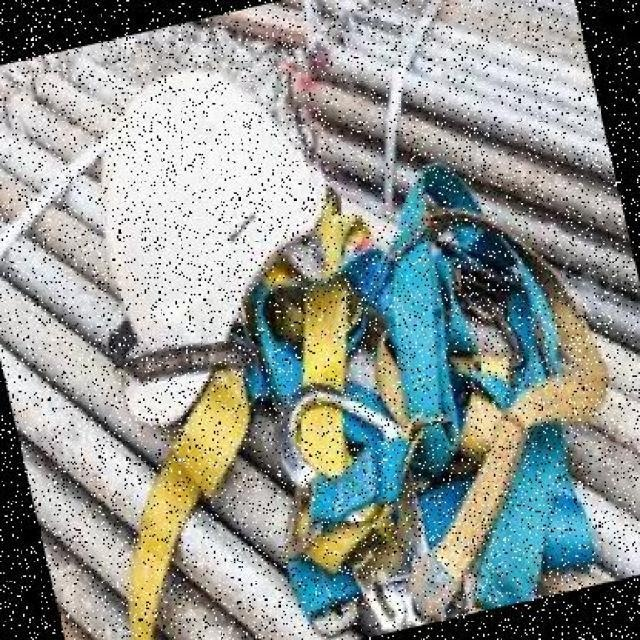Arnes_seguridad: (4, 0, 640, 640)
